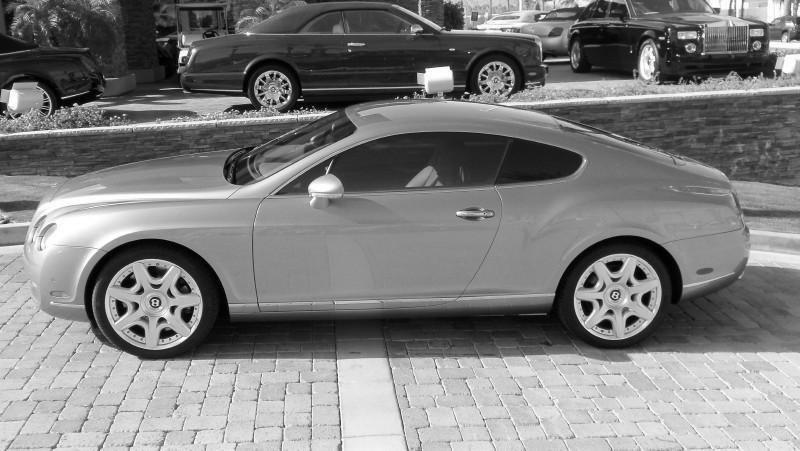car: (27, 103, 753, 361)
